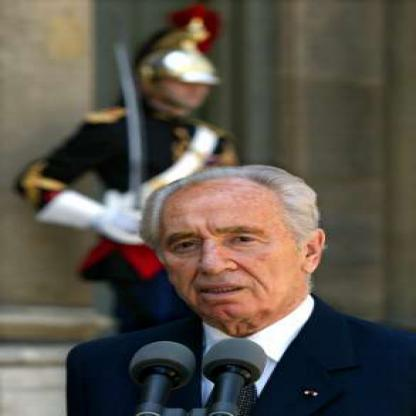face: (156, 175, 306, 324)
